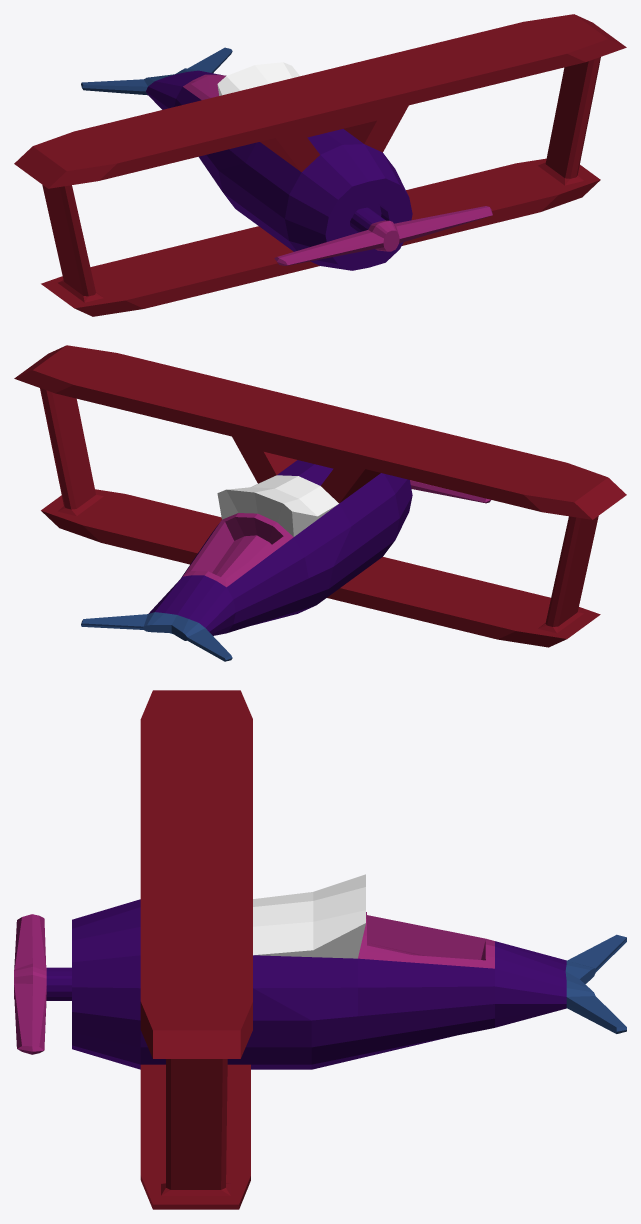
3 renders of one model, top to bottom at view 1: azimuth 30°, elevation 25°; view 2: azimuth 150°, elevation 25°; view 3: azimuth 270°, elevation 25°, orthographic. The views are drawn at different scales.
Parts seen in each view (by area): view 1: Plane, Propeller; view 2: Plane, Propeller; view 3: Plane, Propeller.
Boxes of the visible parts, bbox=[...] form: Plane: bbox=[14, 14, 626, 316]; Propeller: bbox=[274, 206, 492, 265]; Plane: bbox=[14, 345, 626, 661]; Propeller: bbox=[410, 480, 490, 503]; Plane: bbox=[46, 690, 626, 1209]; Propeller: bbox=[14, 914, 46, 1054].
Size of the model in its own units: 10.07 by 2.6 by 7.18.
2 materials, 2 textured.
